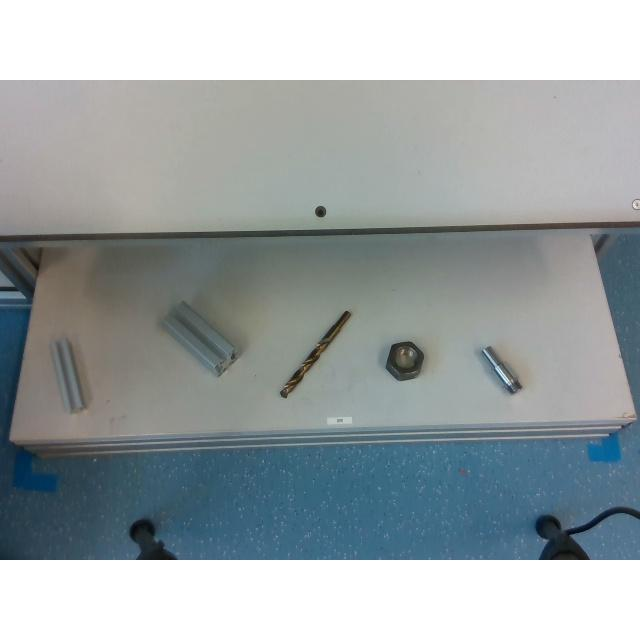Axis2: (480, 344, 520, 392)
Drill: (279, 311, 351, 397)
F20_20_G: (52, 338, 84, 410)
M30: (385, 341, 423, 379)
S40_40_G: (164, 302, 236, 374)
